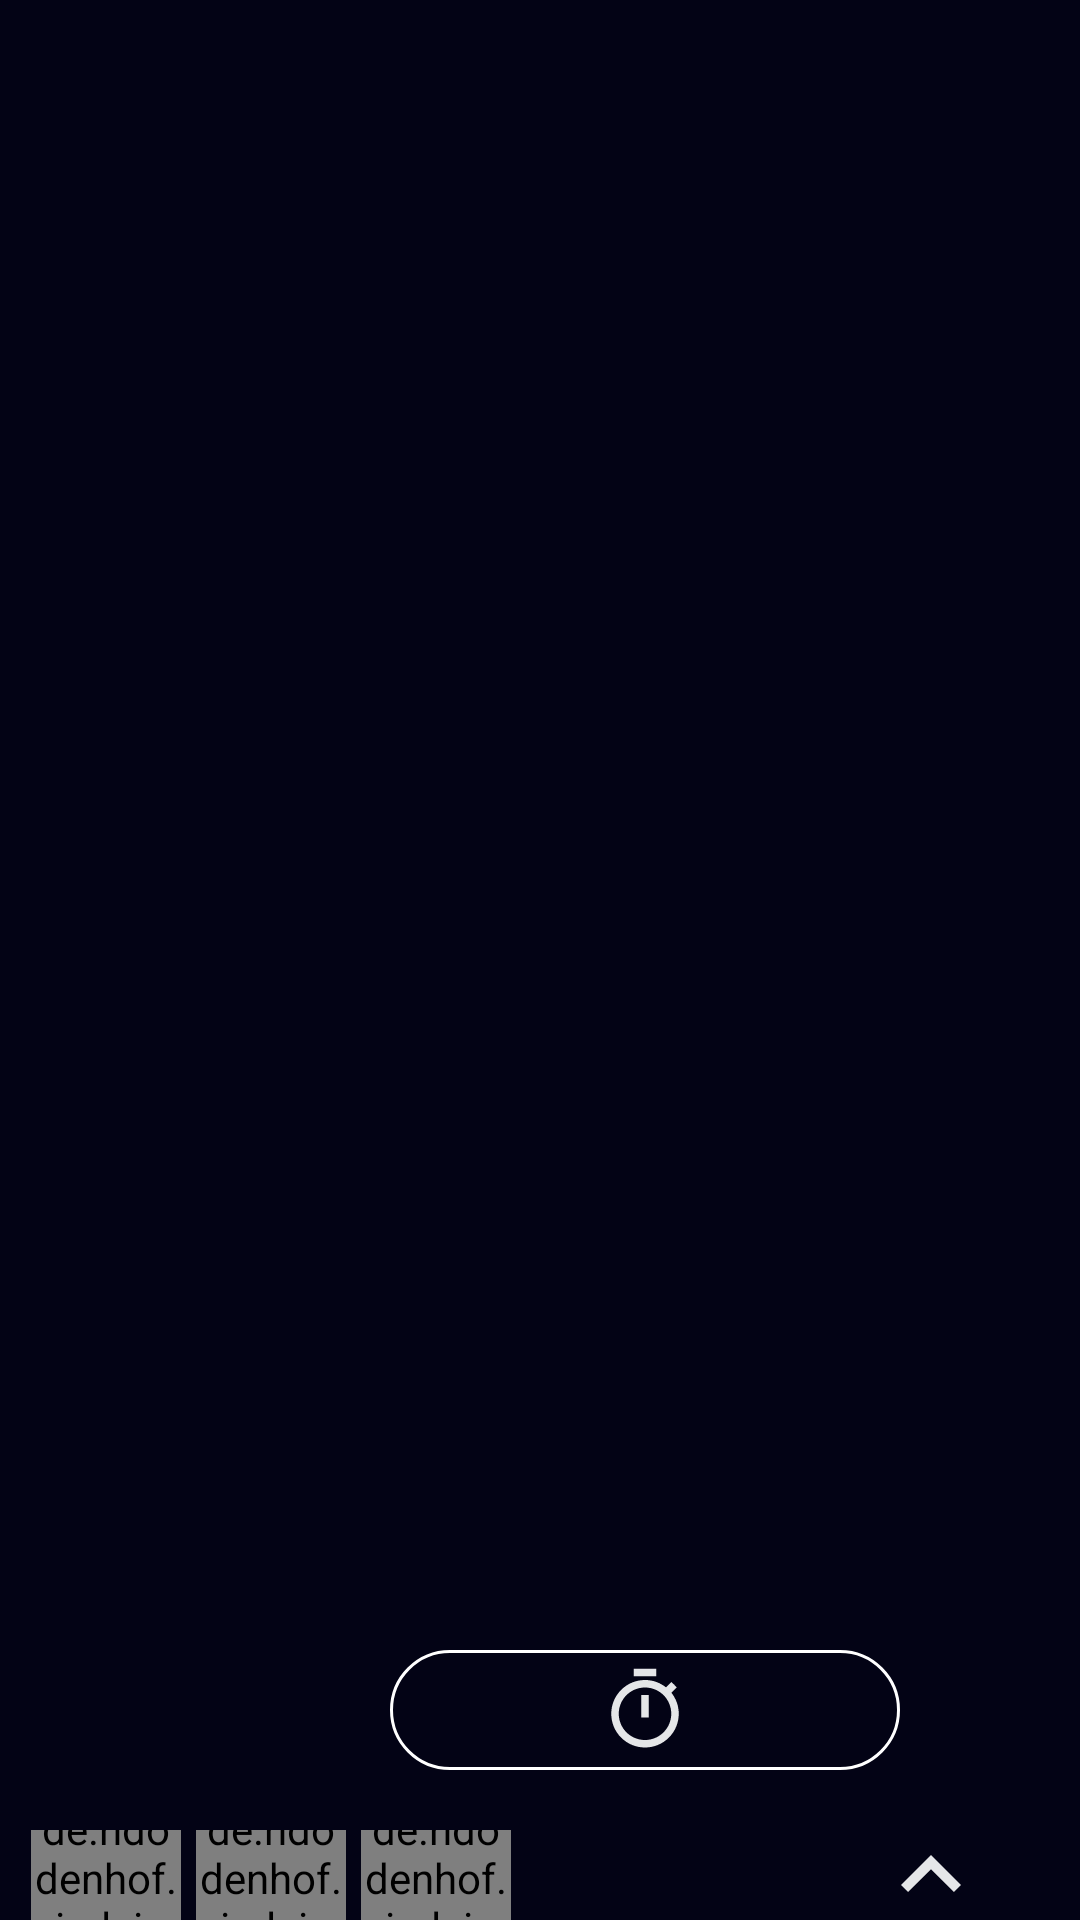

Screen size 1080*1920. Icon name, then its box in pixels as [x1,y1,x2,y2]:
timer: [611,1668,679,1748]
